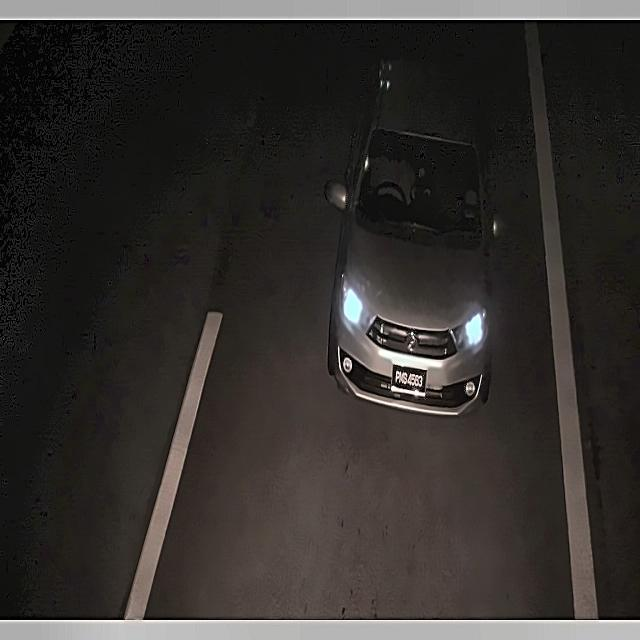car: (390, 362, 429, 399)
